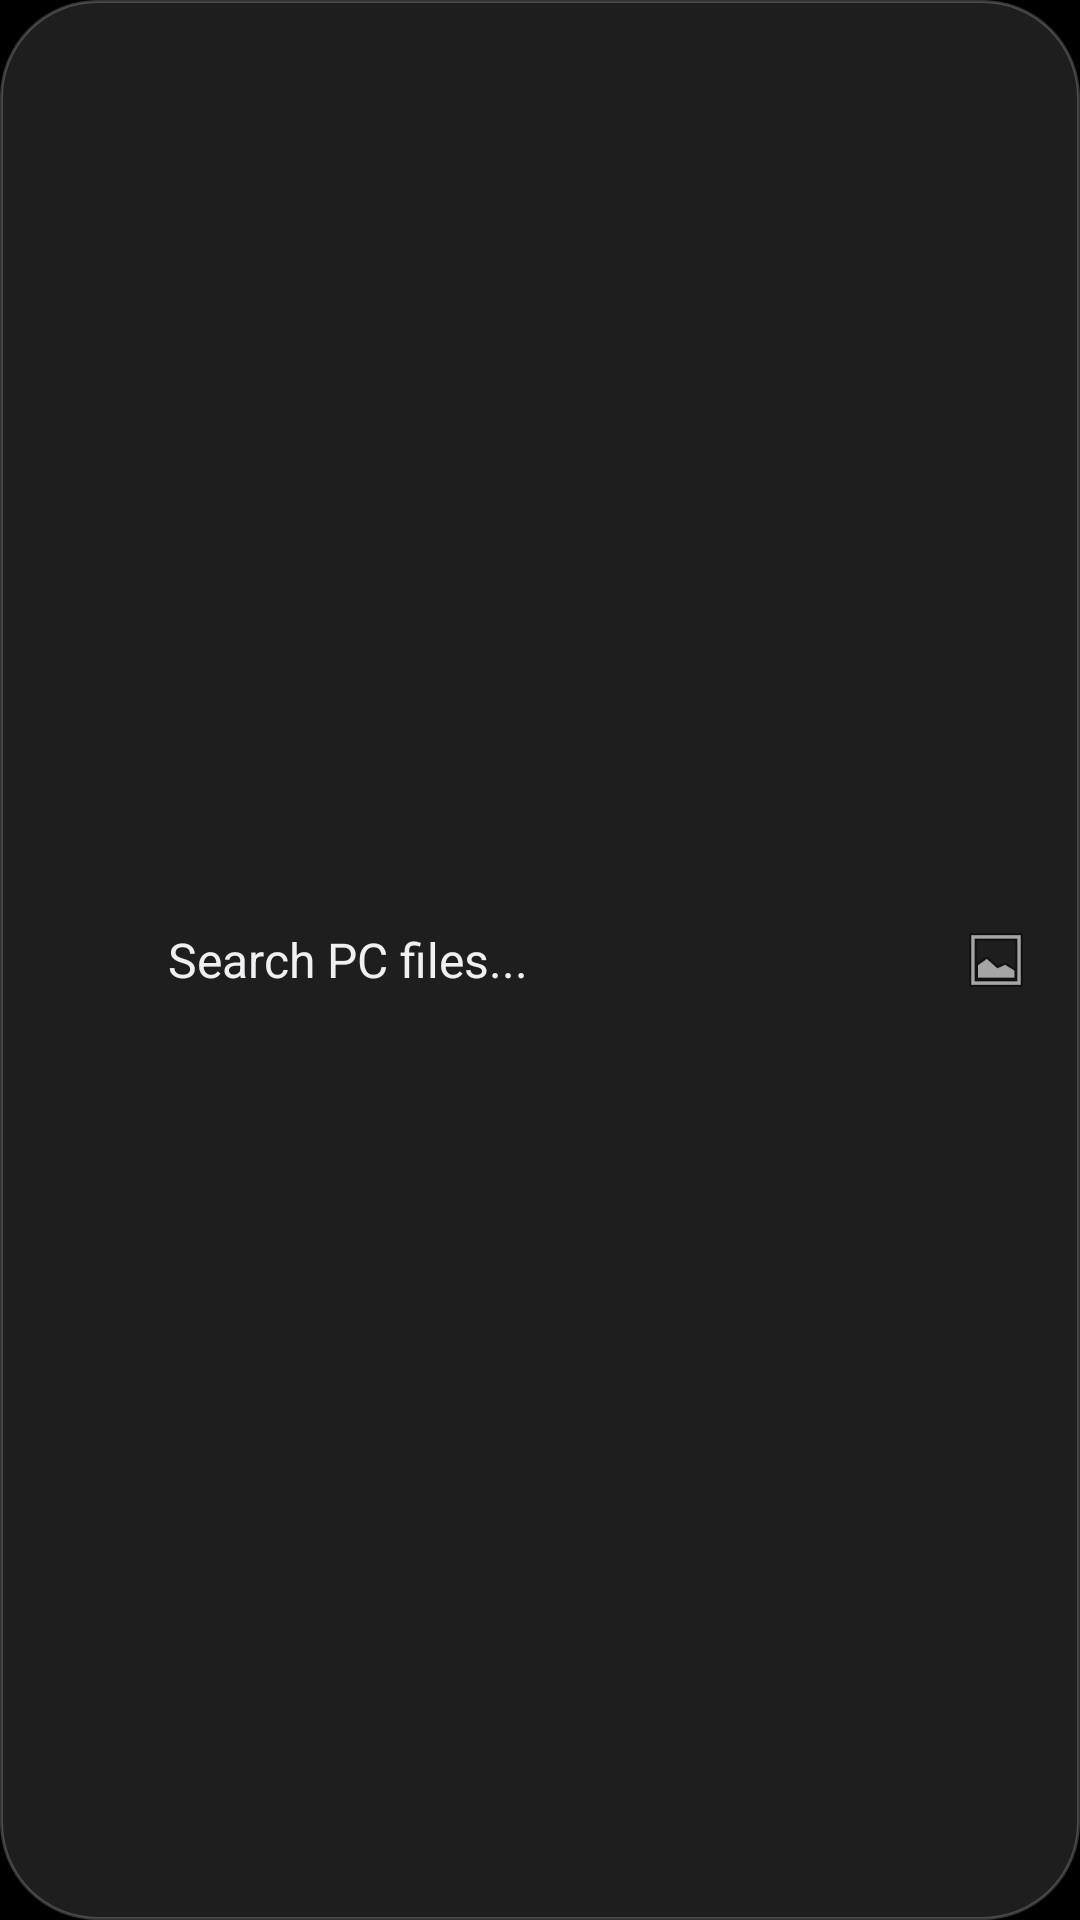

Named icons in this screenshot (1080*1920) and their centers, (x,y):
gallery: (996,960)
